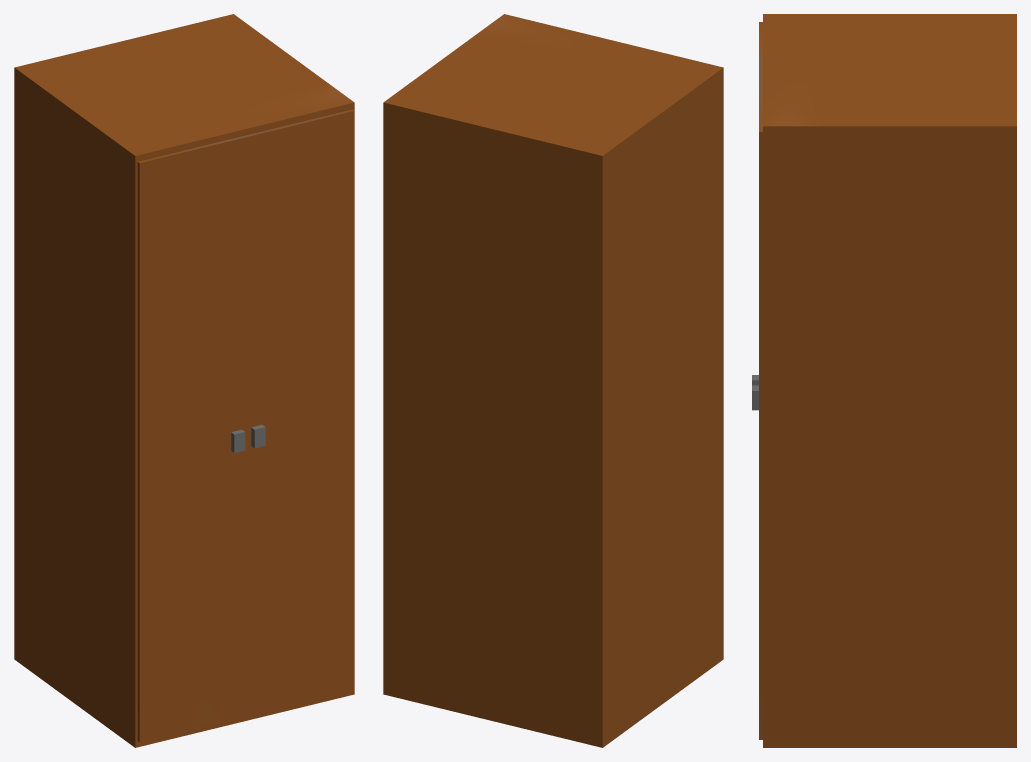
File: mueble2.fbx
The picture shows the model from 3 angles, left to right: view 1: azimuth 30°, elevation 25°; view 2: azimuth 150°, elevation 25°; view 3: azimuth 270°, elevation 25°; orthographic projection. The views are drawn at different scales.
Visible parts, largest first — view 1: Mueble Largo; view 2: Mueble Largo; view 3: Mueble Largo.
Part boxes in pixels (x1,y1,x2,y2): Mueble Largo: [14, 14, 354, 747]; Mueble Largo: [383, 14, 723, 747]; Mueble Largo: [752, 14, 1016, 747].
Bounding box in the file's own units: 209 × 540 × 209.
Materials: 1 (1 with a texture image).
